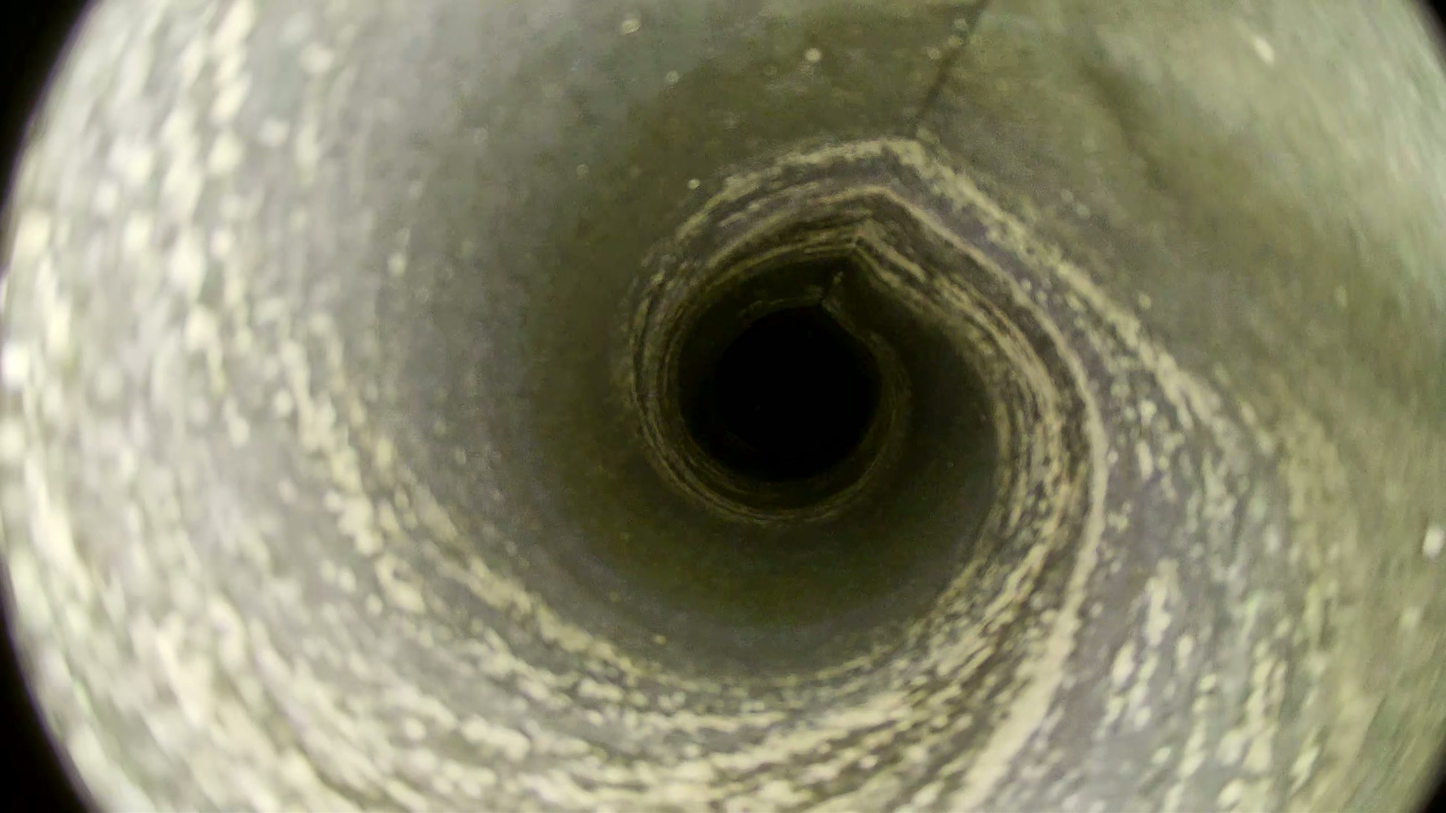hole: (717, 329, 846, 453)
